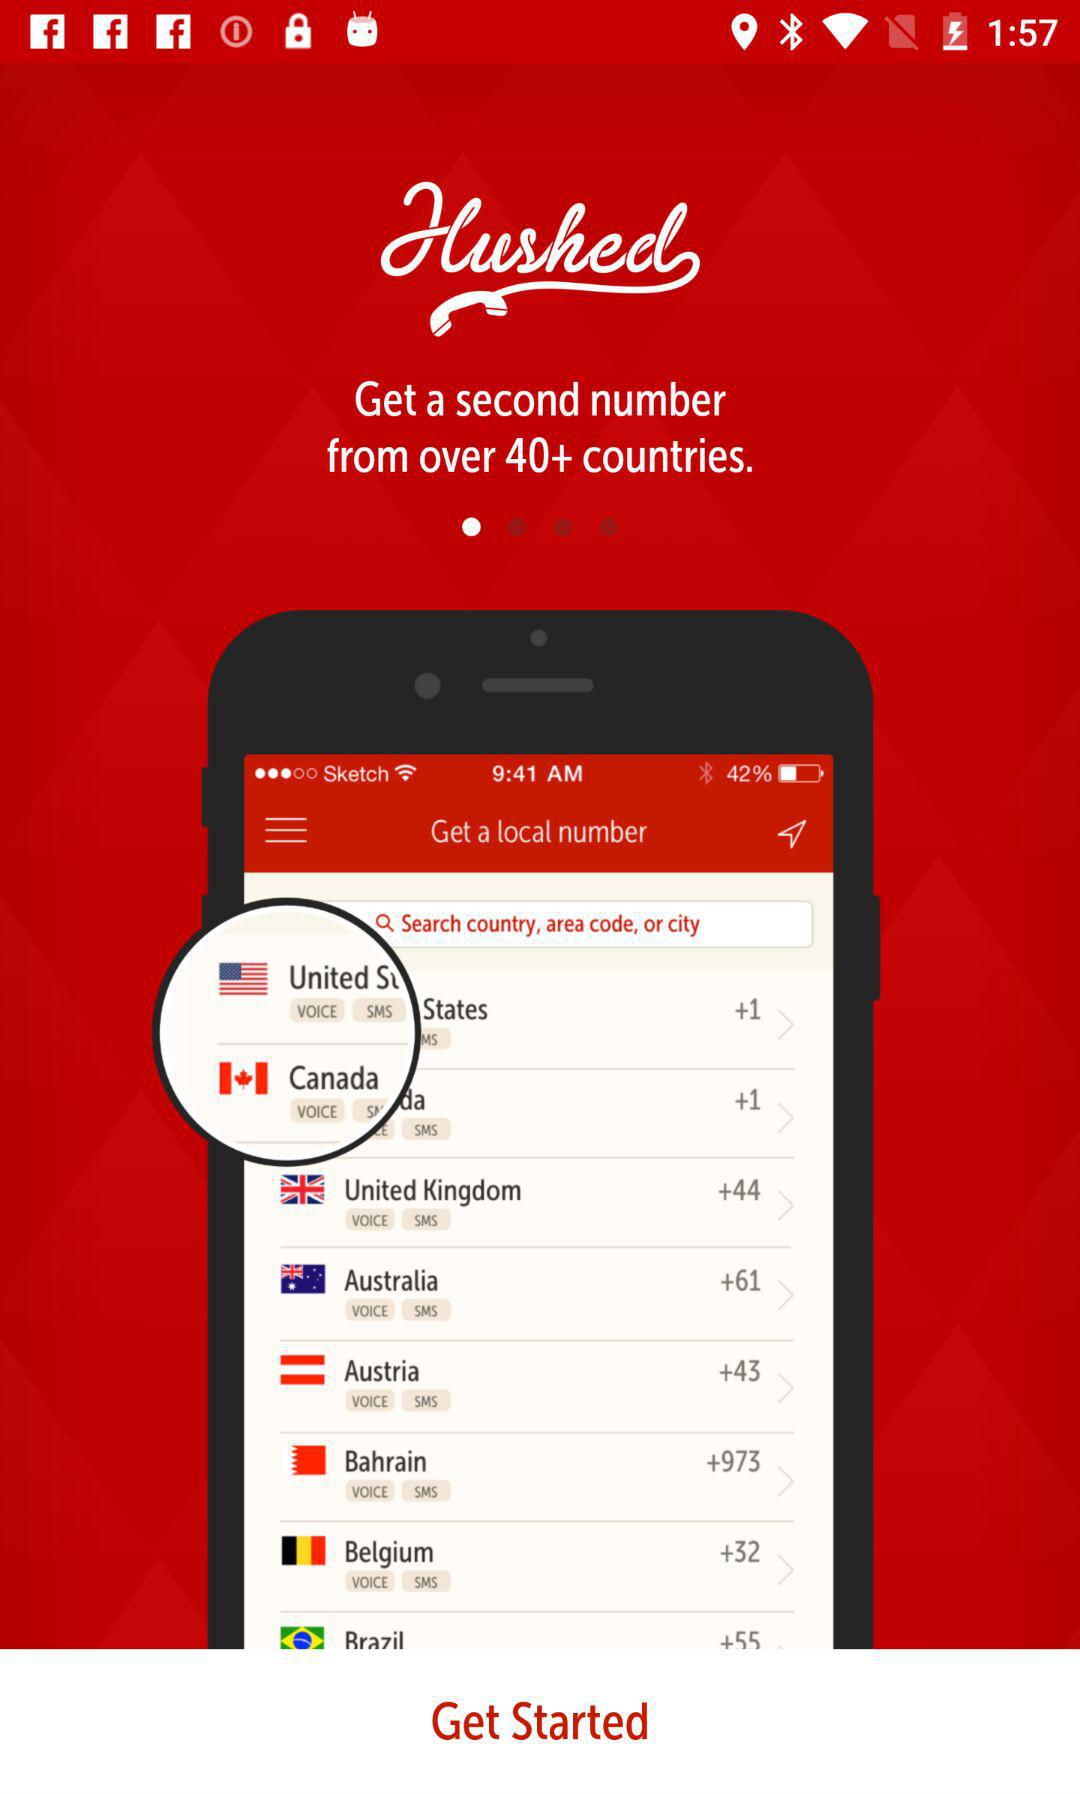Image: (150, 607, 883, 1649), (377, 181, 702, 340)
PageIndicator: (455, 516, 621, 539)
Text: (323, 381, 755, 475)
TextButton: (1, 1649, 1080, 1794)
UpperTaskBar: (1, 1, 1080, 64)
